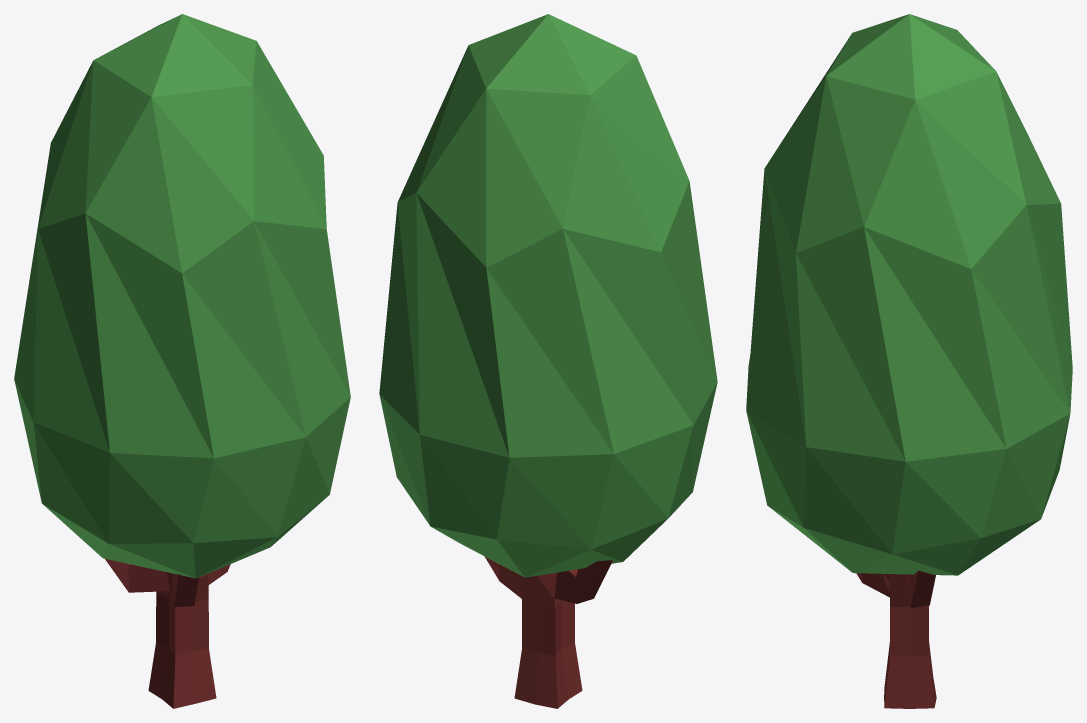
File: Tree_3.fbx
3 renders of one model, left to right at view 1: azimuth 30°, elevation 25°; view 2: azimuth 150°, elevation 25°; view 3: azimuth 270°, elevation 25°, orthographic.
Visible parts, largest first — view 1: Leaves, Stem; view 2: Leaves, Stem; view 3: Leaves, Stem.
Boxes of the visible parts, left/top/right/bottom form: Leaves: left=14, top=14, right=350, bottom=578; Stem: left=105, top=559, right=230, bottom=708; Leaves: left=379, top=14, right=717, bottom=577; Stem: left=485, top=557, right=612, bottom=708; Leaves: left=746, top=14, right=1072, bottom=575; Stem: left=856, top=570, right=936, bottom=708.
Size of the model in its own units: 280 by 620 by 269.
